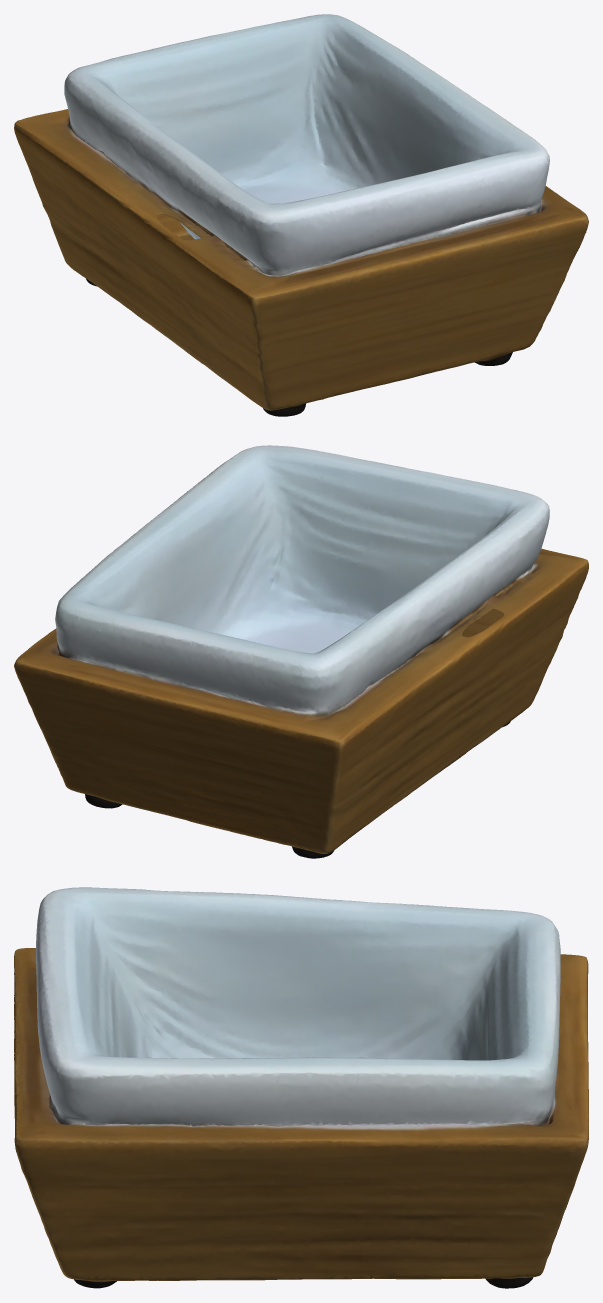
Rendered from Threshold_Bamboo_Ceramic_Soap_Dish.glb.
The picture shows the model from 3 angles, top to bottom: view 1: azimuth 30°, elevation 25°; view 2: azimuth 150°, elevation 25°; view 3: azimuth 270°, elevation 25°; orthographic projection. The views are drawn at different scales.
Parts seen in each view (by area): view 1: geometry_0; view 2: geometry_0; view 3: geometry_0.
Part boxes in pixels (left/top/right/bottom): geometry_0: left=14, top=14, right=588, bottom=416; geometry_0: left=14, top=445, right=588, bottom=858; geometry_0: left=14, top=887, right=588, bottom=1288.
Size of the model in its own units: 0.7934 by 0.4874 by 1.
1 material, 1 textured.
